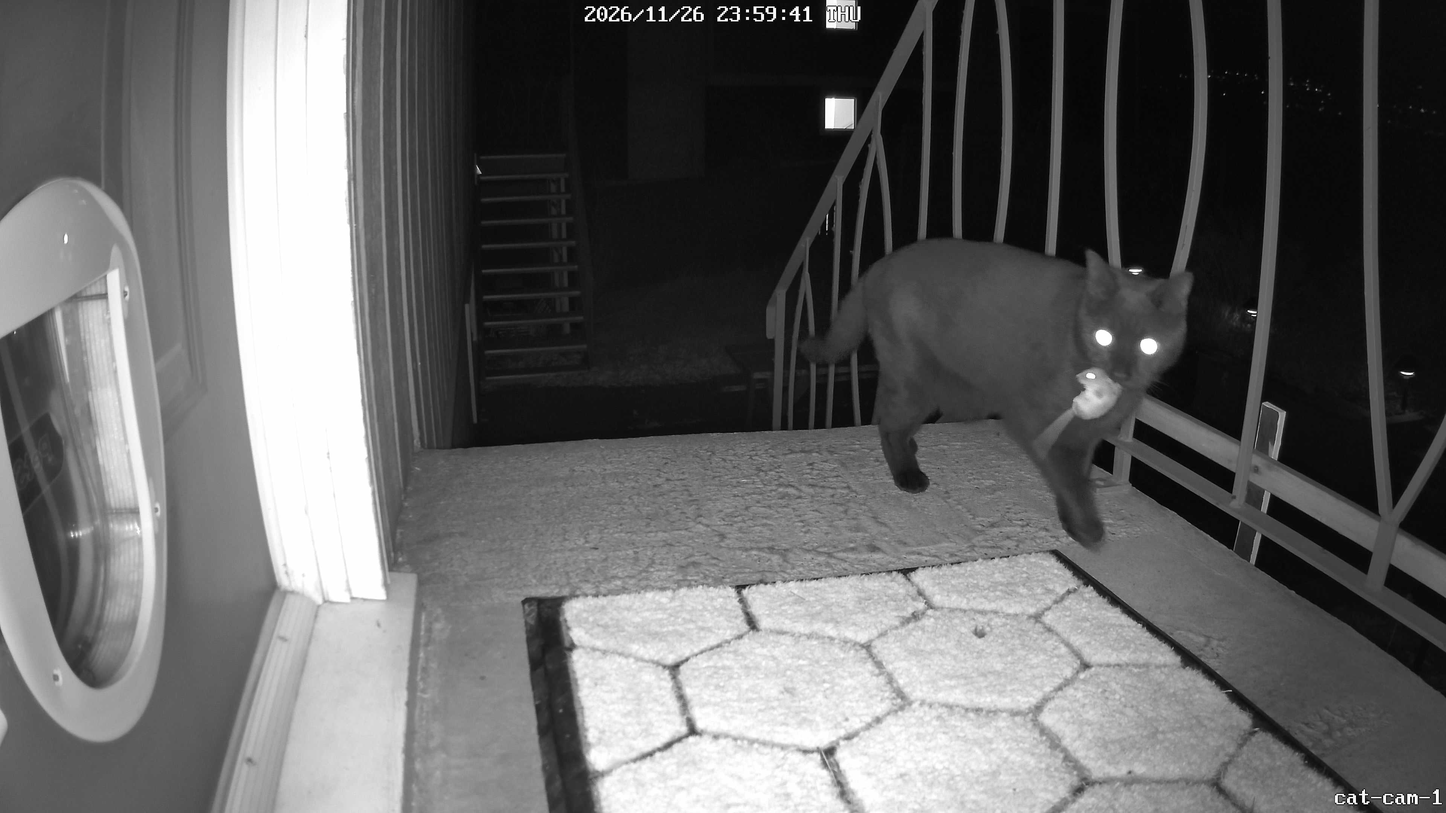prey: (1026, 354, 1158, 471)
